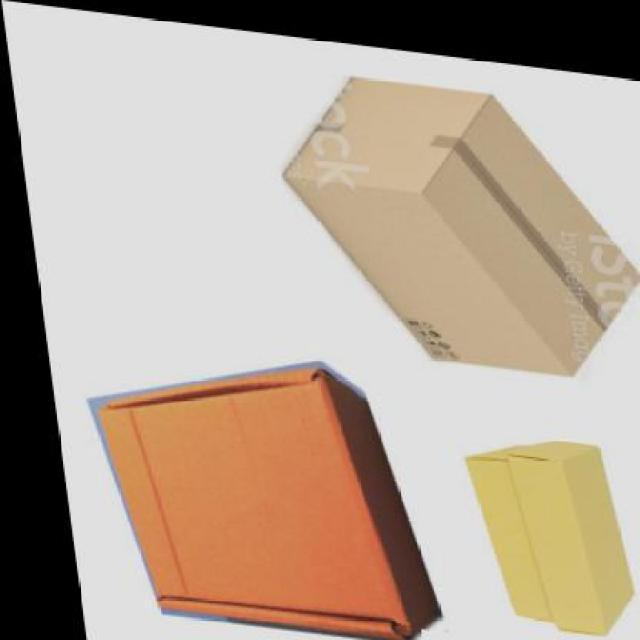box: (266, 56, 639, 372), (77, 340, 426, 634), (452, 415, 626, 623)
